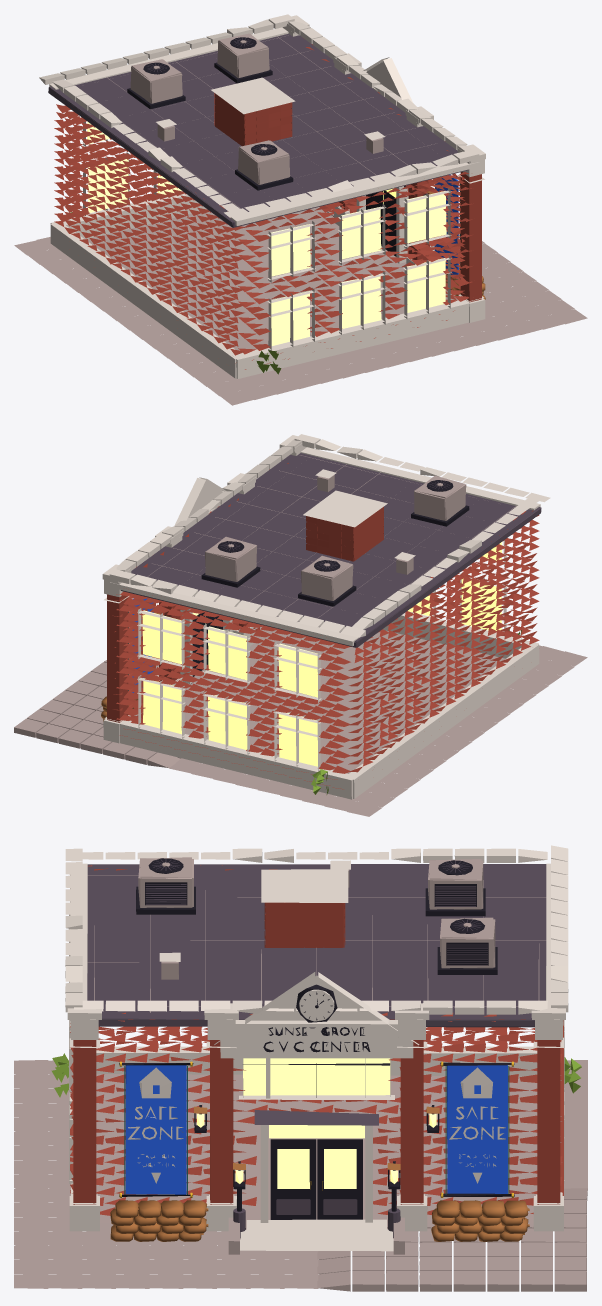
The model's file is bld.civic-center.lod1.glb.
3 renders of one model, top to bottom at view 1: azimuth 30°, elevation 25°; view 2: azimuth 150°, elevation 25°; view 3: azimuth 270°, elevation 25°, orthographic. The views are drawn at different scales.
Parts seen in each view (by area): view 1: roof, object 12, object 14, object 17, interior, object 9, object 15, door_L; view 2: roof, object 12, object 14, object 17, interior, object 9; view 3: roof, object 17, object 14, object 12, interior, object 15, object 19, object 9, door_L, door_R, object 18, object 10 (+4 smaller).
Part boxes in pixels (bbox=[...]): roof: bbox=[39, 14, 479, 227]; object 12: bbox=[54, 44, 481, 369]; object 14: bbox=[49, 15, 485, 378]; object 17: bbox=[14, 209, 587, 405]; interior: bbox=[88, 207, 446, 350]; object 9: bbox=[87, 122, 446, 345]; object 15: bbox=[434, 175, 458, 279]; door_L: bbox=[384, 190, 396, 256]; roof: bbox=[109, 434, 550, 647]; object 12: bbox=[107, 463, 539, 789]; object 14: bbox=[102, 435, 540, 799]; object 17: bbox=[14, 627, 587, 816]; interior: bbox=[184, 630, 505, 773]; object 9: bbox=[142, 542, 502, 766]; roof: bbox=[65, 845, 568, 1027]; object 17: bbox=[14, 1060, 587, 1291]; object 14: bbox=[67, 863, 565, 1251]; object 12: bbox=[70, 865, 563, 1215]; interior: bbox=[96, 1074, 537, 1223]; object 15: bbox=[125, 1065, 507, 1194]; object 19: bbox=[110, 1200, 529, 1241]; object 9: bbox=[243, 1058, 390, 1138]; door_L: bbox=[270, 1139, 316, 1219]; door_R: bbox=[317, 1139, 362, 1219]; object 18: bbox=[119, 984, 514, 1196]; object 10: bbox=[254, 1110, 378, 1125].
Size of the model in its own units: 13.62 by 7.3 by 14.47.
